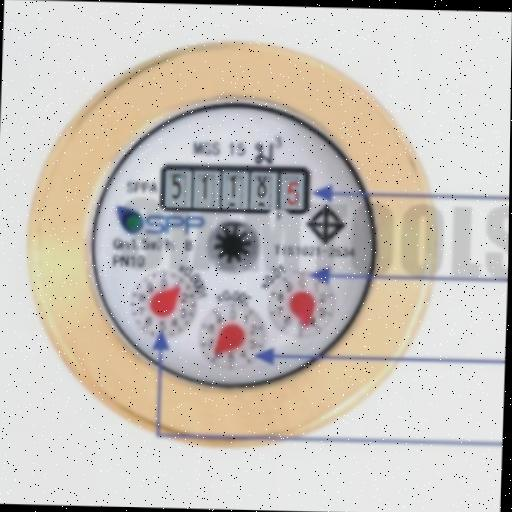1: (225, 175, 243, 207), (197, 175, 213, 208)
5: (168, 175, 186, 207), (285, 178, 301, 208)
8: (255, 177, 271, 209)
border_water_meter_number: (159, 163, 312, 216)
